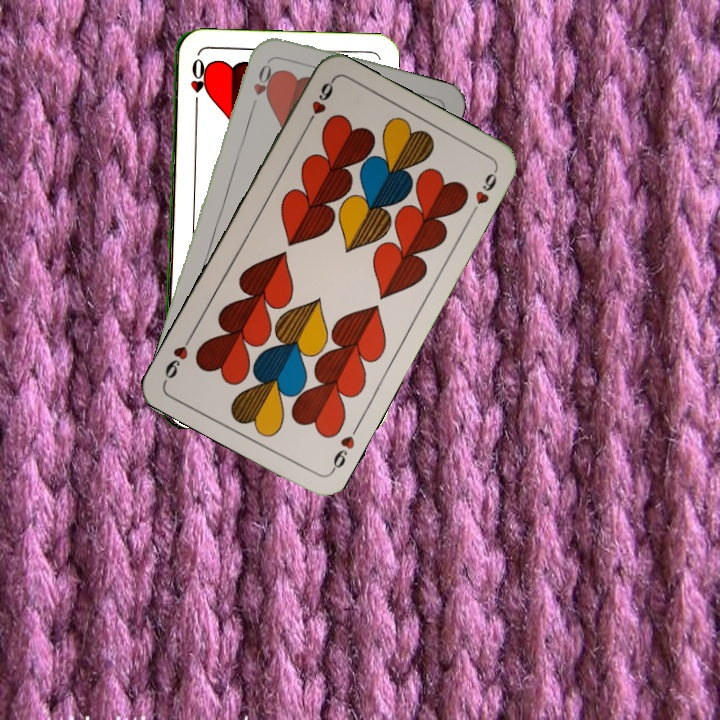H9: (302, 76, 337, 131), (327, 421, 362, 476)
HO: (246, 56, 274, 114), (186, 54, 205, 112)
